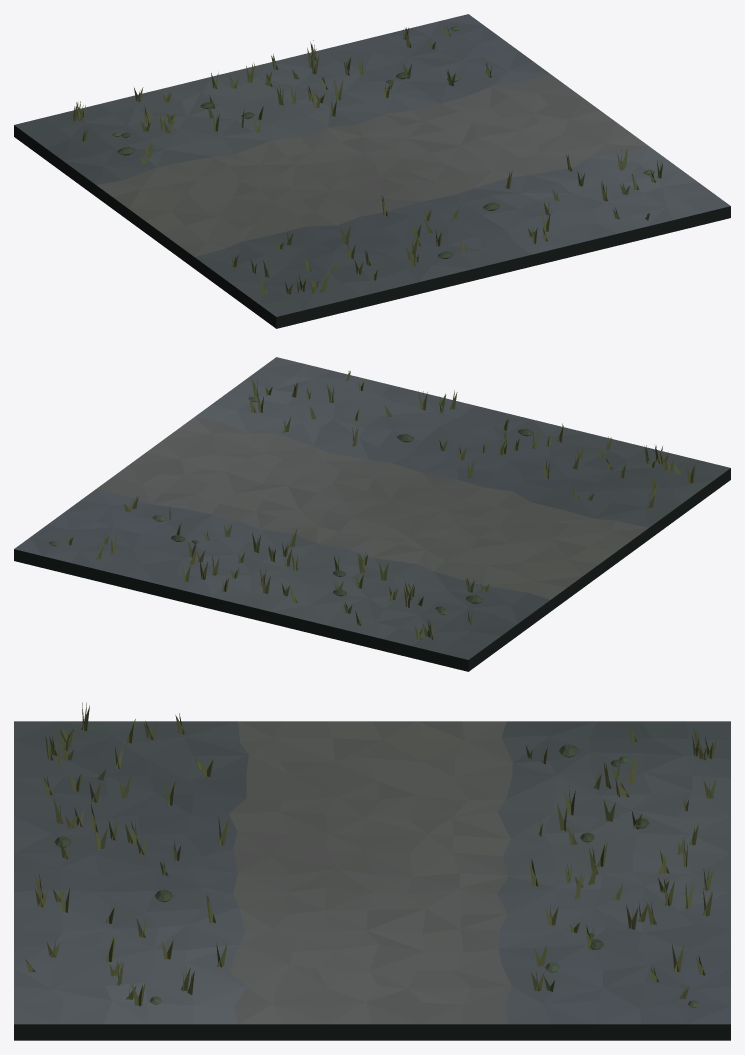
Rendered from CHUNK_TRANS_dark_canopy_forest__broken_crown_hills__1.glb.
The picture shows the model from 3 angles, top to bottom: view 1: azimuth 30°, elevation 25°; view 2: azimuth 150°, elevation 25°; view 3: azimuth 270°, elevation 25°; orthographic projection. The views are drawn at different scales.
Parts seen in each view (by area): view 1: CHUNK_TRANS_dark_canopy_forest__broken_crown_hills__1; view 2: CHUNK_TRANS_dark_canopy_forest__broken_crown_hills__1; view 3: CHUNK_TRANS_dark_canopy_forest__broken_crown_hills__1.
Part boxes in pixels (x1,y1,x2,y2): CHUNK_TRANS_dark_canopy_forest__broken_crown_hills__1: (14, 14, 730, 328); CHUNK_TRANS_dark_canopy_forest__broken_crown_hills__1: (14, 357, 730, 671); CHUNK_TRANS_dark_canopy_forest__broken_crown_hills__1: (14, 702, 730, 1040).
Size of the model in its own units: 8 by 0.5667 by 8.
